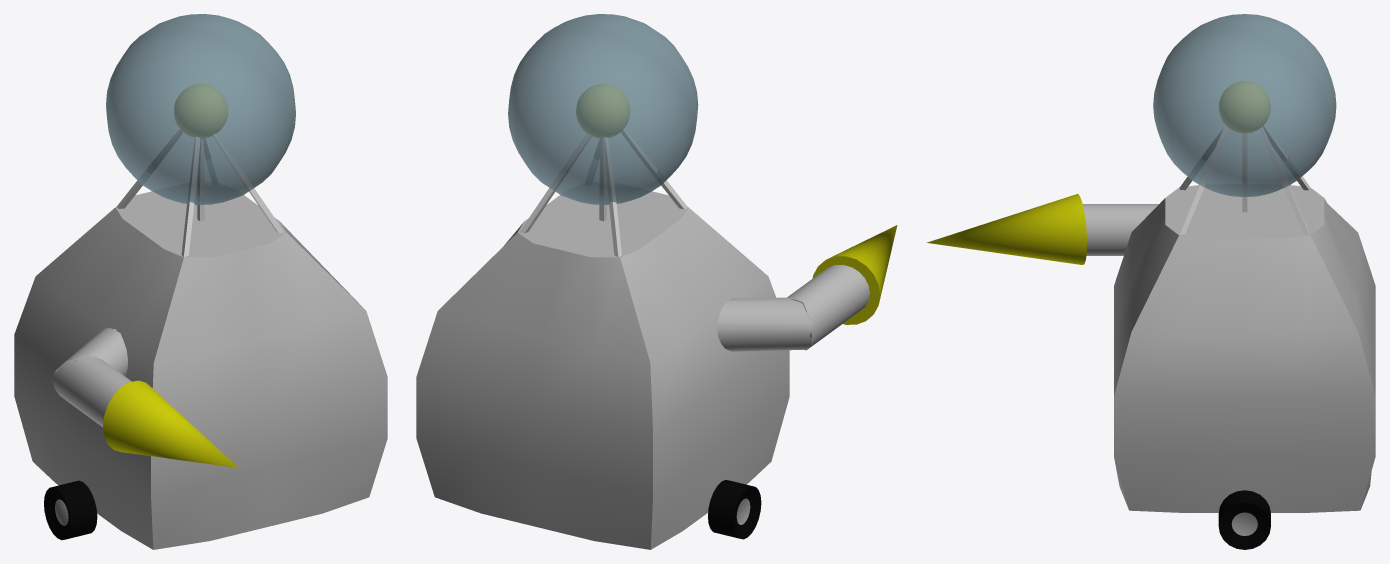
The picture shows the model from 3 angles, left to right: view 1: azimuth 30°, elevation 25°; view 2: azimuth 150°, elevation 25°; view 3: azimuth 270°, elevation 25°; orthographic projection. The views are drawn at different scales.
Visible parts, largest first — view 1: polySurface2; view 2: polySurface2; view 3: polySurface2.
Boxes of the visible parts, left/top/right/bottom form: polySurface2: left=14, top=14, right=387, bottom=549; polySurface2: left=416, top=14, right=897, bottom=549; polySurface2: left=926, top=14, right=1375, bottom=549.
Size of the model in its own units: 0.8406 by 1.16 by 1.03.
